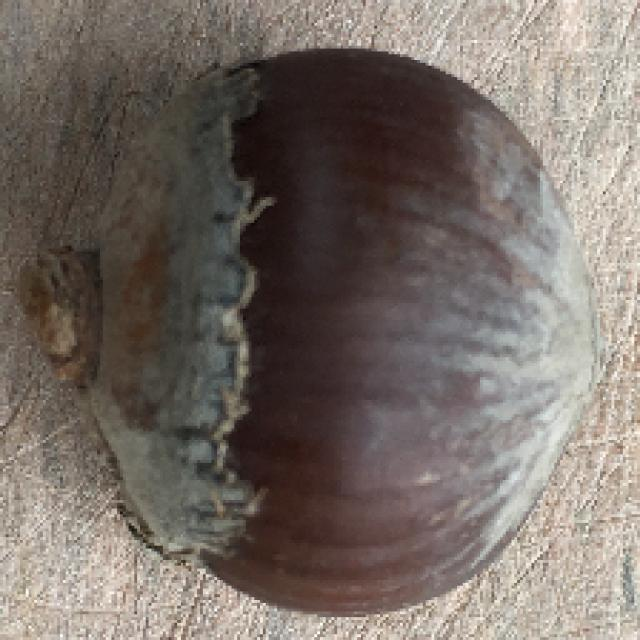damagedHazelnut: (10, 44, 614, 614)
